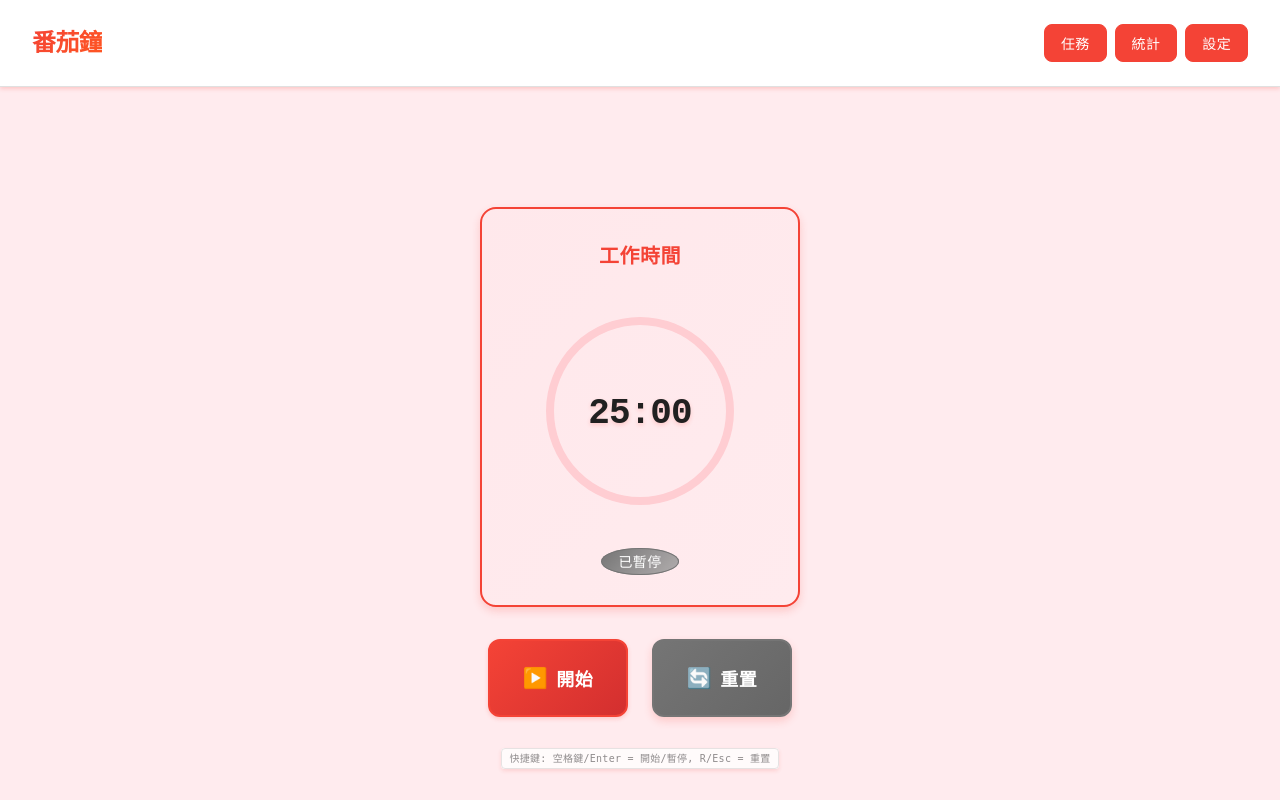
Integration Tests - Module Interactions › Timer and Stats Integration › should record completed pomodoro sessions
# Open stats panel
Click the button "統計" at (1146, 43), box [1115,24,1177,62]
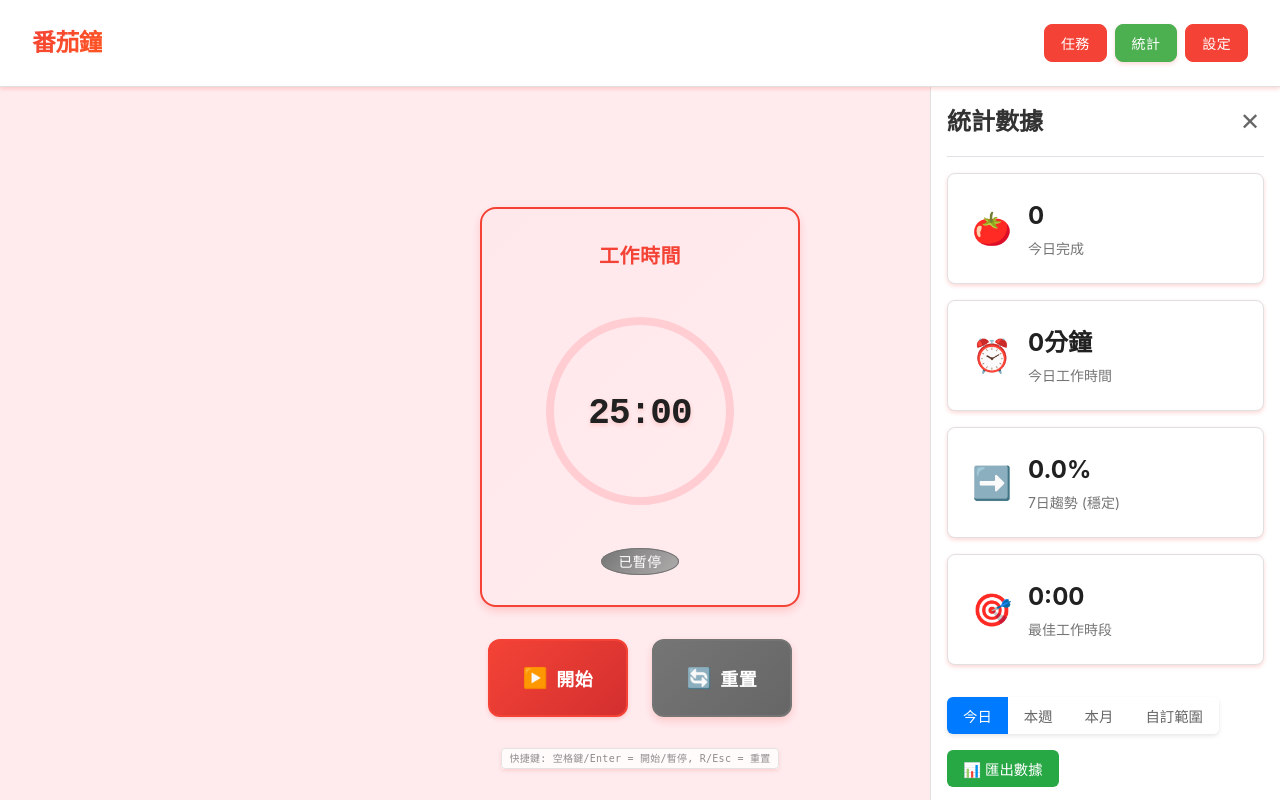
Expected: the text "今日完成" is shown, [1028,240,1084,257]
